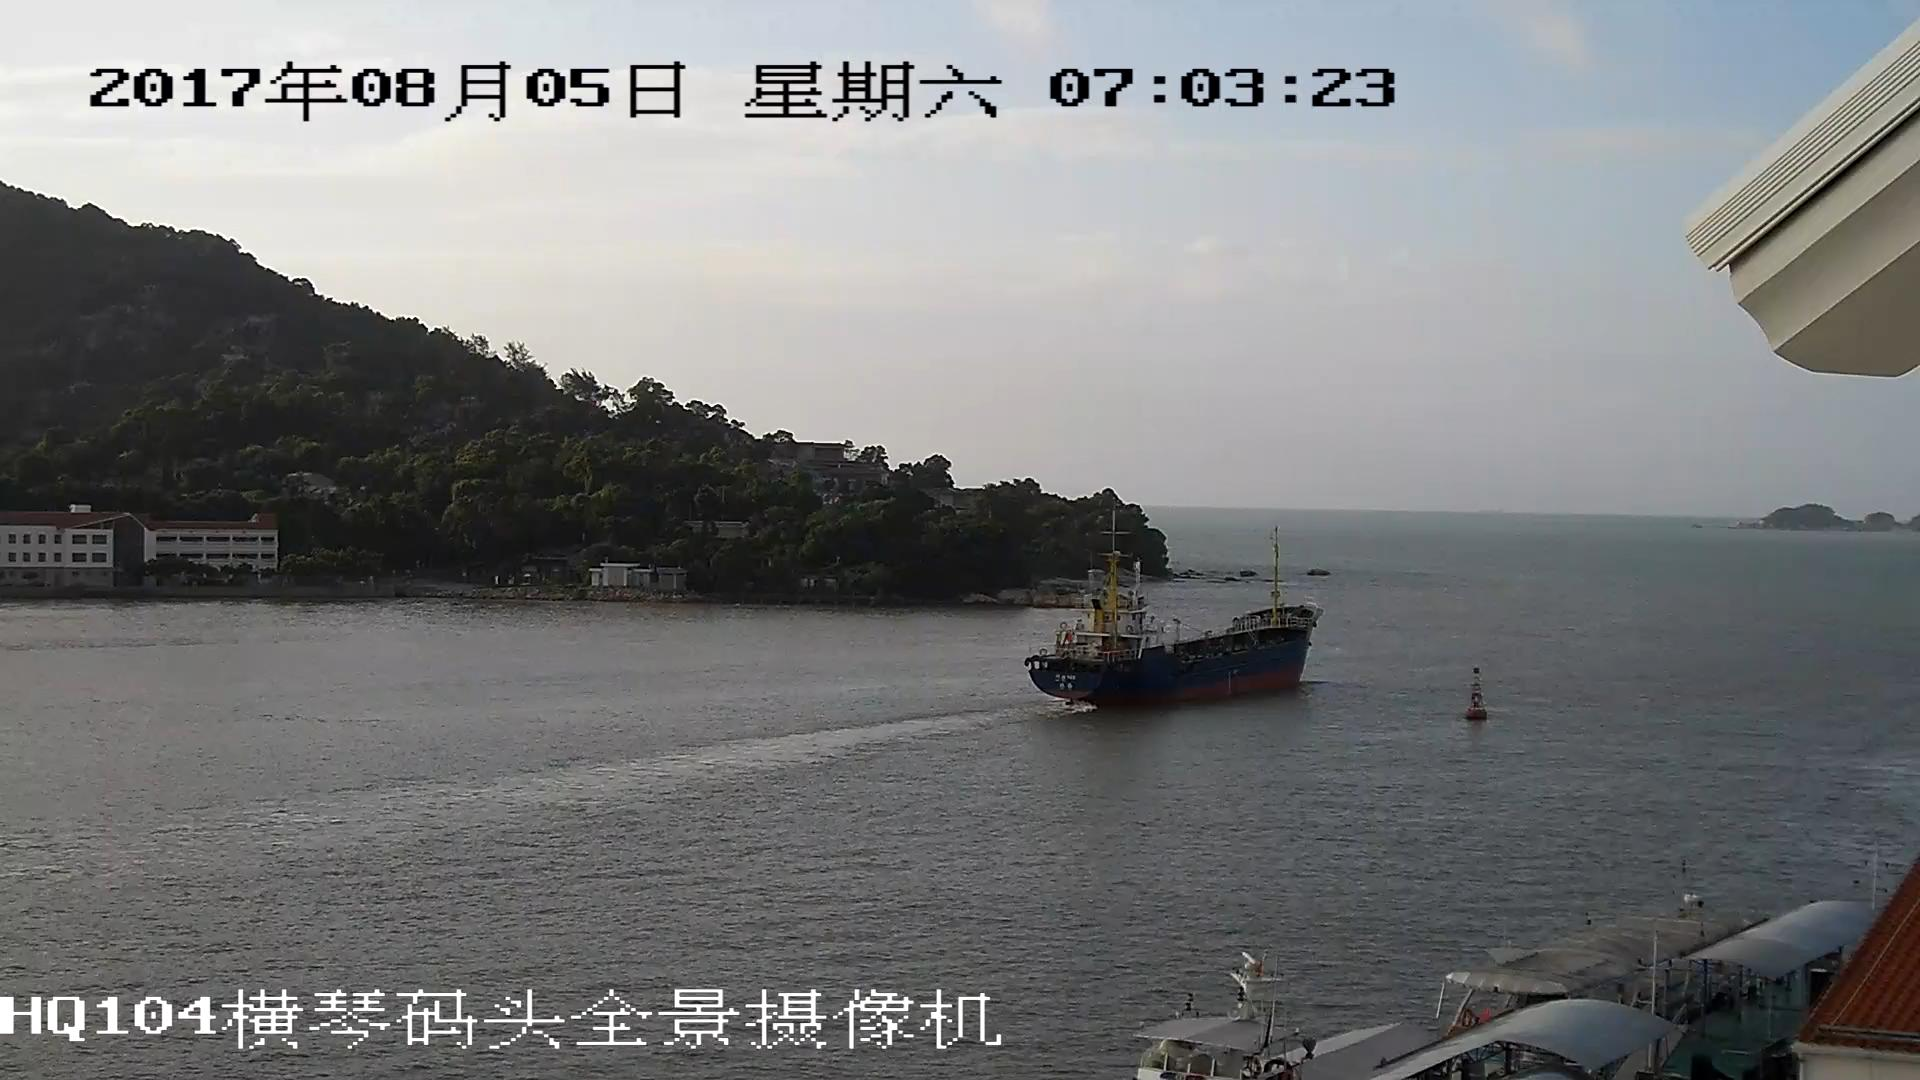general cargo ship: (1026, 544, 1319, 708)
